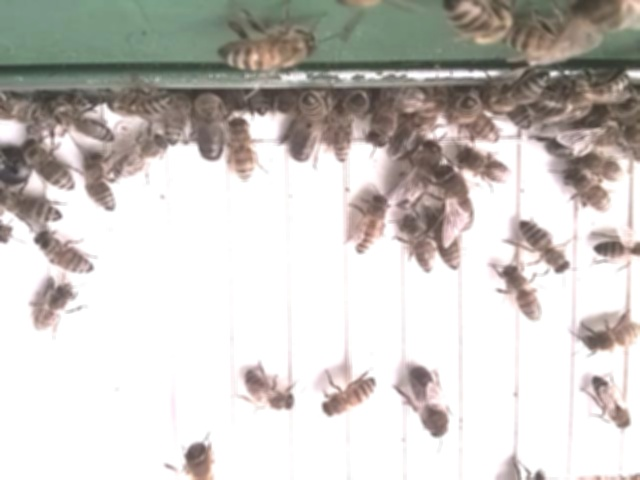Drone: (408, 364, 452, 442), (194, 89, 228, 171)
Worker: (518, 219, 570, 278), (111, 133, 171, 182), (497, 265, 544, 326), (588, 372, 634, 433), (28, 140, 78, 195), (241, 368, 298, 415), (322, 375, 381, 419), (564, 168, 614, 219), (38, 234, 97, 277), (34, 280, 78, 336), (82, 149, 117, 219), (399, 216, 437, 279), (355, 191, 390, 259), (575, 322, 640, 357), (461, 147, 515, 186), (2, 195, 66, 226), (228, 121, 258, 186), (588, 235, 640, 268)
